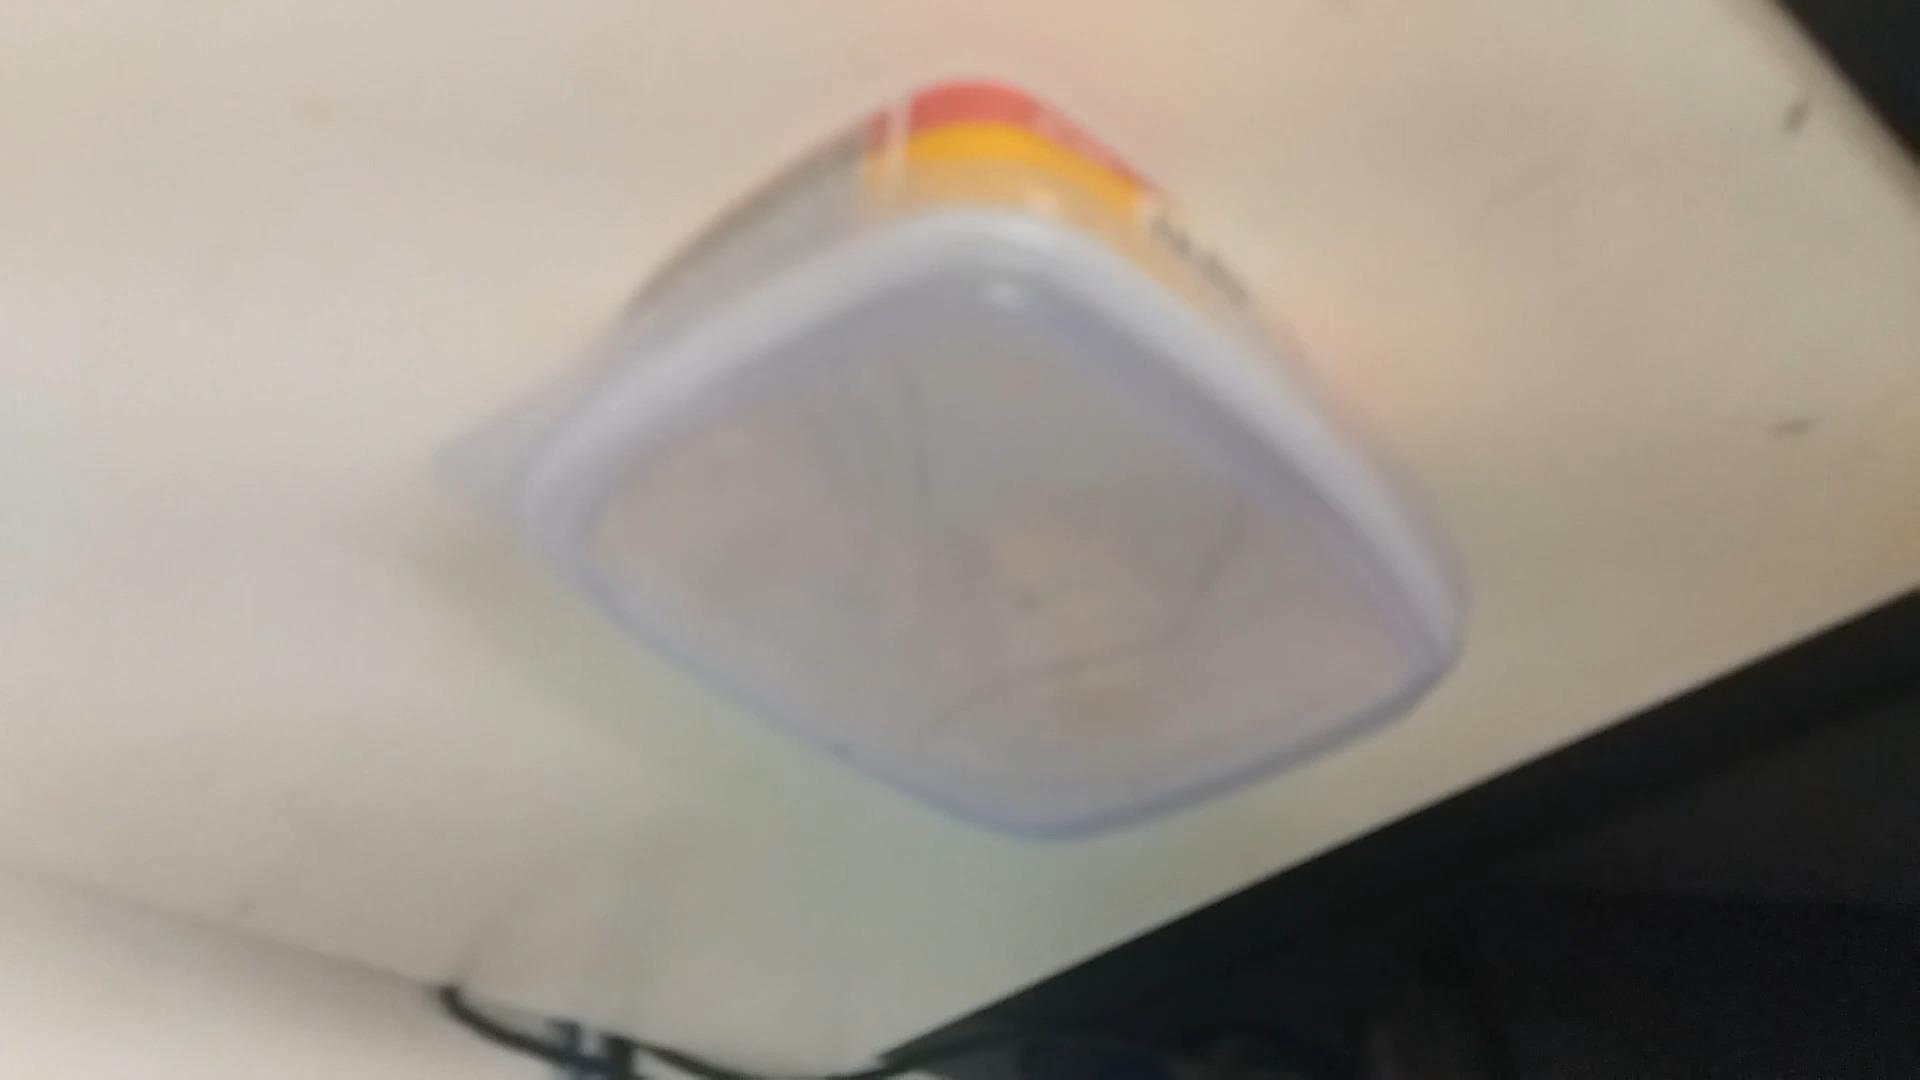butter: (465, 105, 1462, 843)
